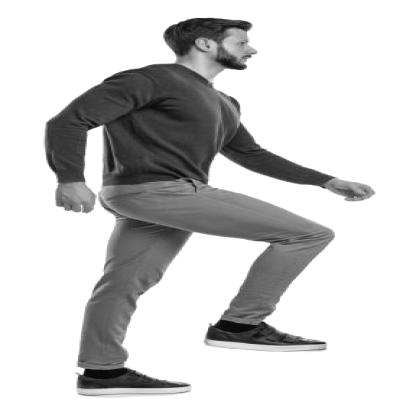jean: (29, 7, 383, 413)
